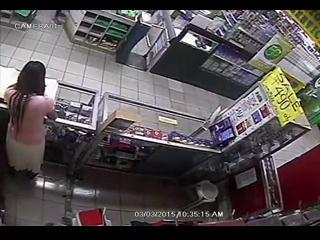Normal: (4, 60, 58, 181)
